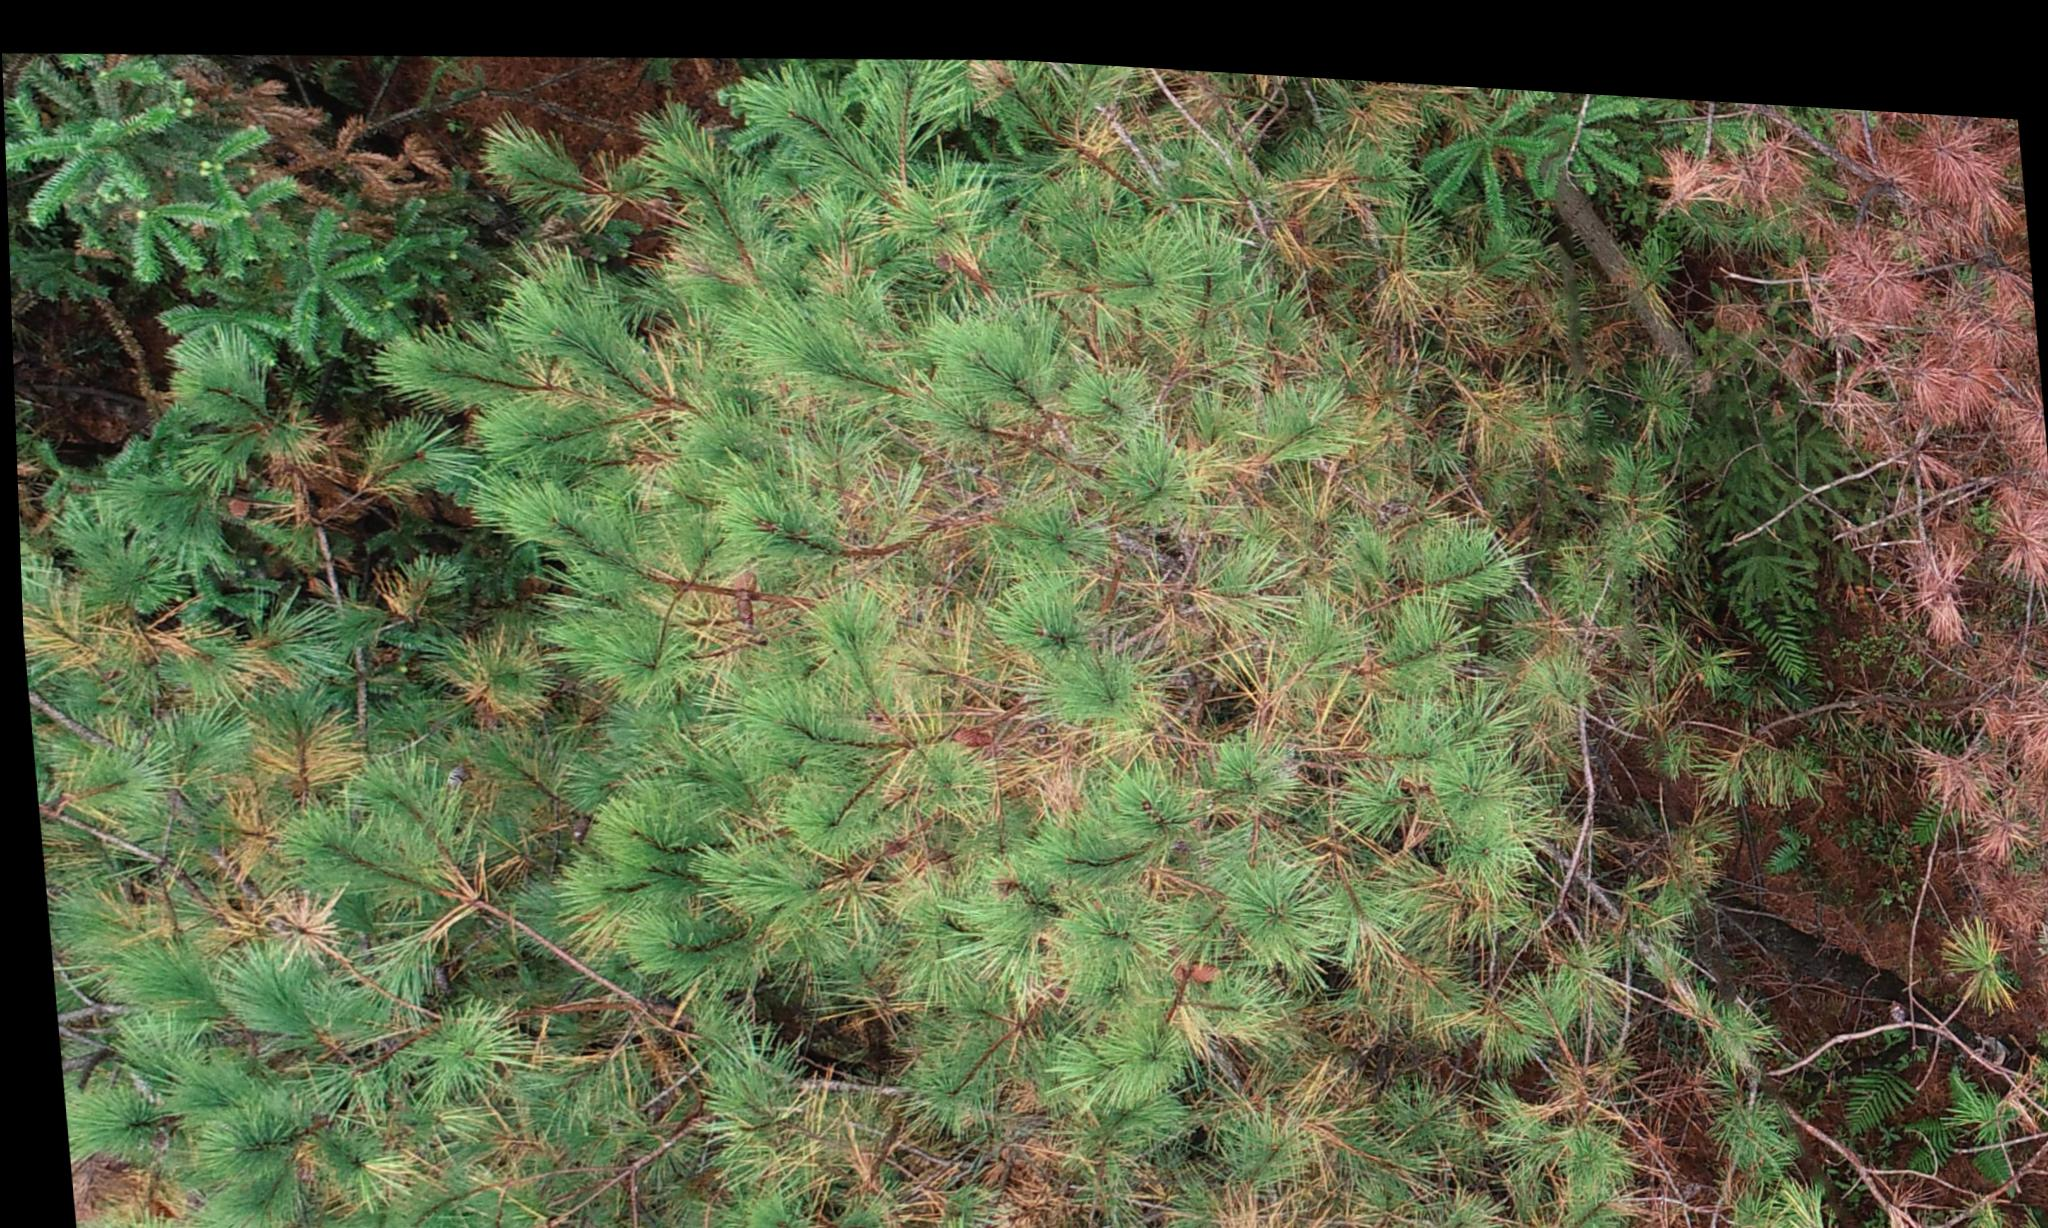heavy: (1707, 79, 2048, 978)
light: (0, 0, 1732, 1228)
